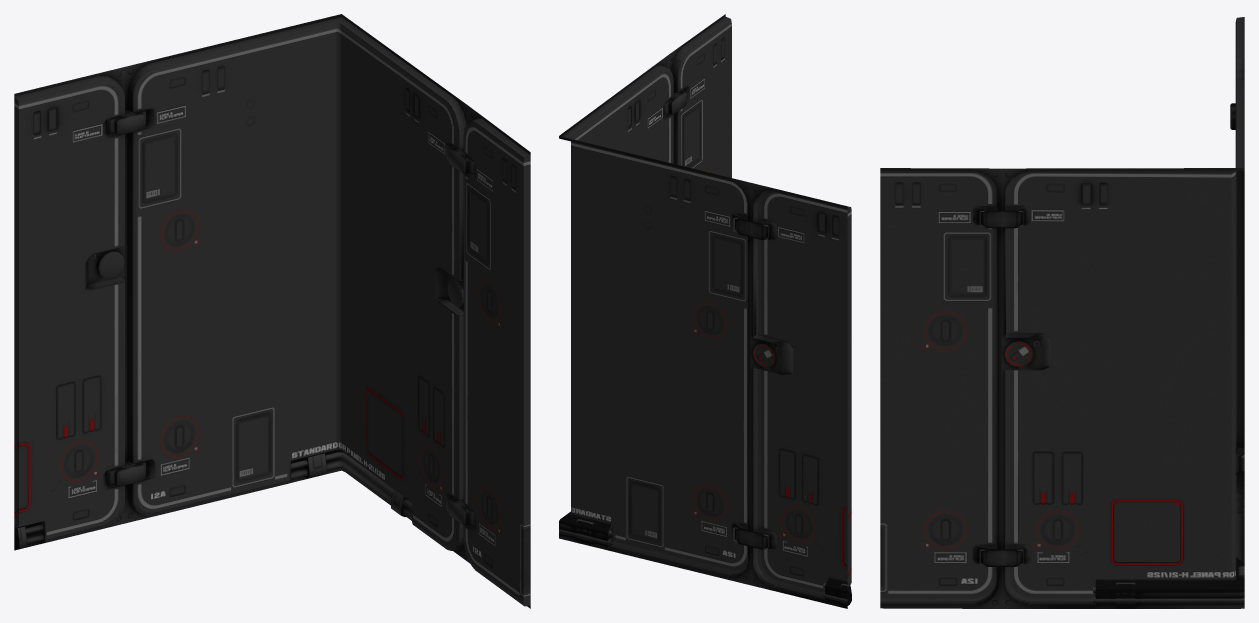
Rendered from Panel_A_2x2_2_Corner_Out.FBX.
The picture shows the model from 3 angles, left to right: view 1: azimuth 30°, elevation 25°; view 2: azimuth 150°, elevation 25°; view 3: azimuth 270°, elevation 25°; orthographic projection. The views are drawn at different scales.
Parts seen in each view (by area): view 1: Panel_A_2x2_2_Corner_Out; view 2: Panel_A_2x2_2_Corner_Out; view 3: Panel_A_2x2_2_Corner_Out.
Part boxes in pixels (box(x1,y1,x2,y2)): Panel_A_2x2_2_Corner_Out: box(14, 14, 530, 608); Panel_A_2x2_2_Corner_Out: box(559, 14, 851, 608); Panel_A_2x2_2_Corner_Out: box(880, 17, 1244, 608).
Bounding box in the file's own units: 151 × 200 × 150.
